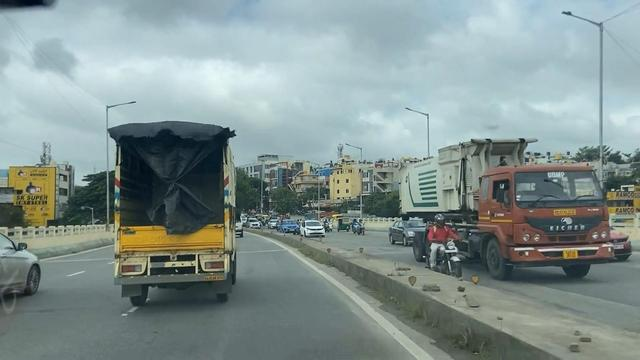HMV: (391, 135, 614, 284), (105, 102, 246, 317)
